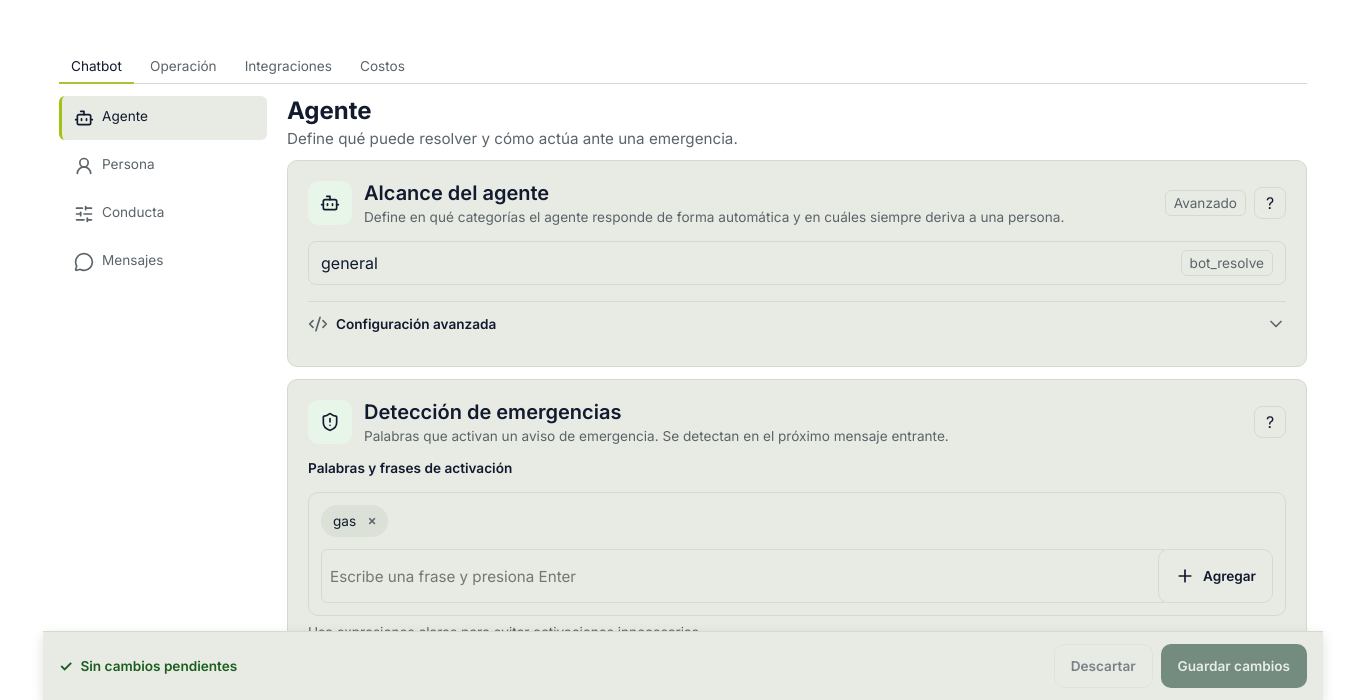
Test case: Settings › operation uses the shared save bar for hours and durations with an explicit empty state
Click the tab "Operación": [183, 67] box [138,50,229,84]
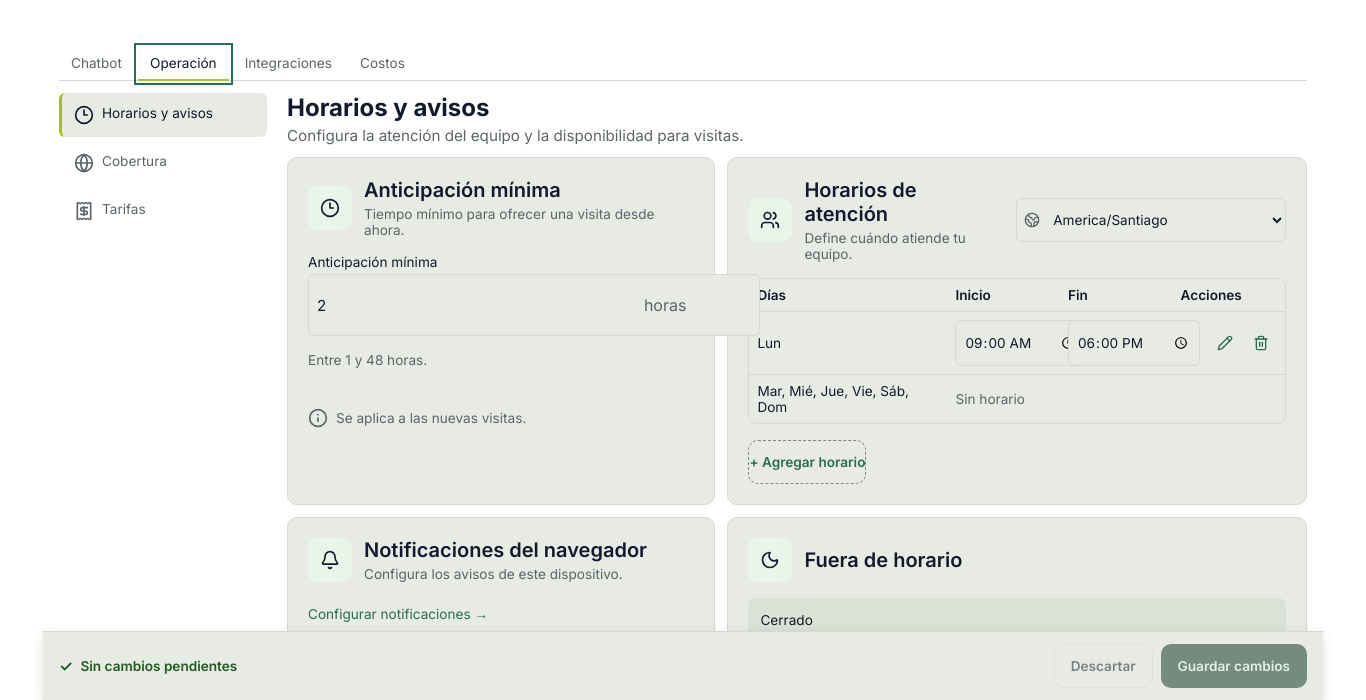
Click the tab "Horarios y avisos": [163, 115] box [59,93,267,137]
(page scrolled)
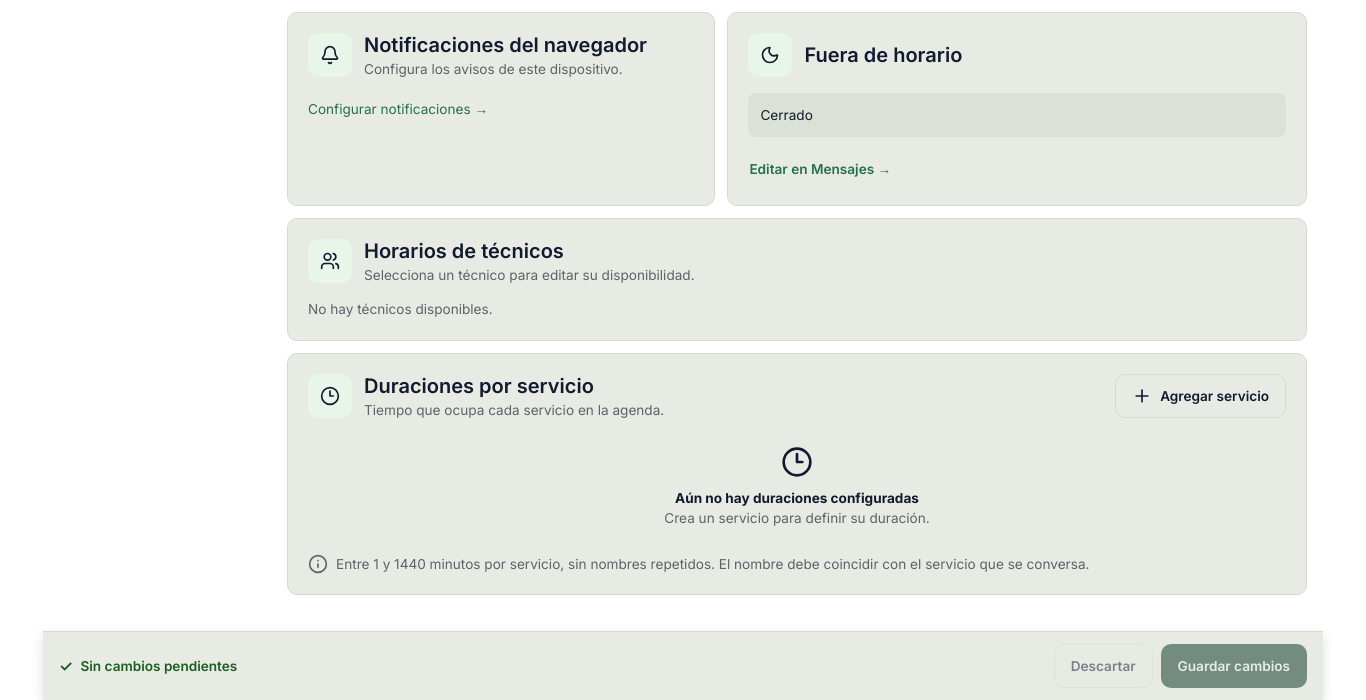
Expected: the text "Aún no hay duraciones configuradas" is shown, [675,490,919,506]
Expected: the button "Agregar servicio" is shown
Expected: the button "Editar en Mensajes →" is shown, [748,153,892,185]
Click the button "Agregar servicio": [1201, 396] box [1115,374,1286,418]
(page scrolled)
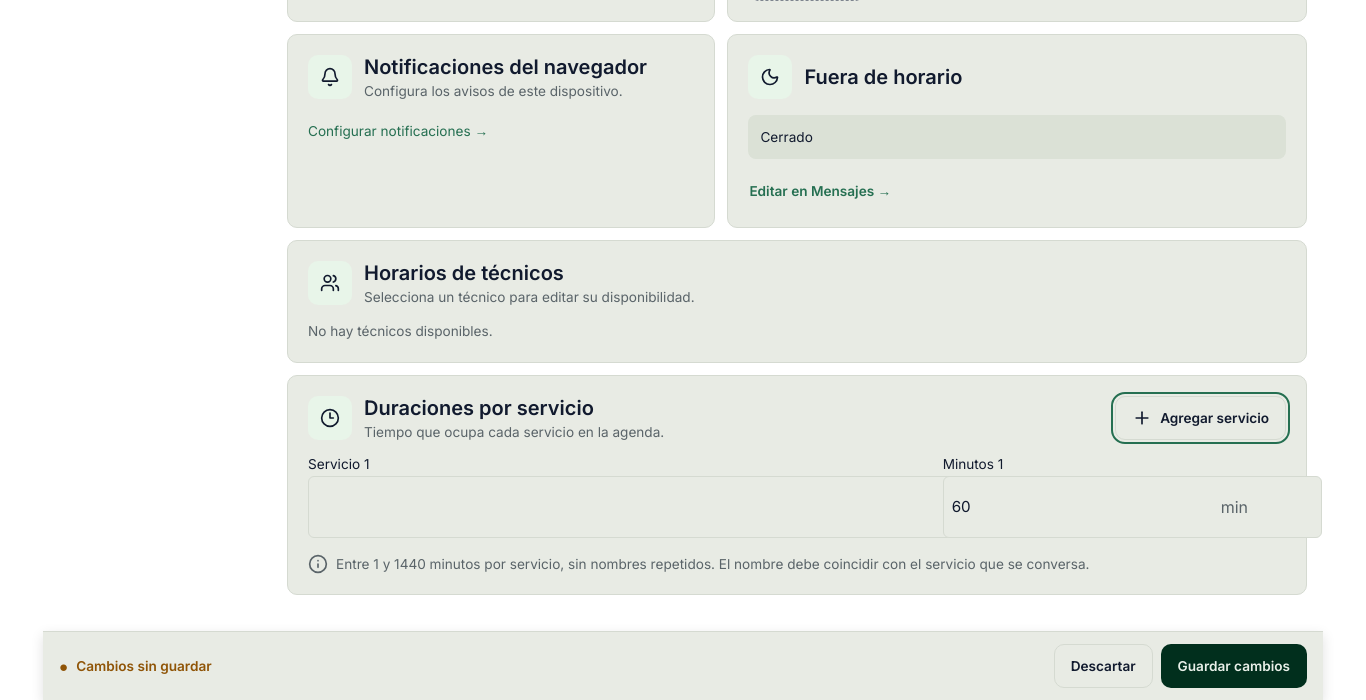
In the field labelled "Servicio 1": [630, 507] box [308,476,953,538], type " Calefont "
Replace the text in the field labelled "Minutos 1" with "90": [1132, 507] box [943,476,1322,538]
(page scrolled)
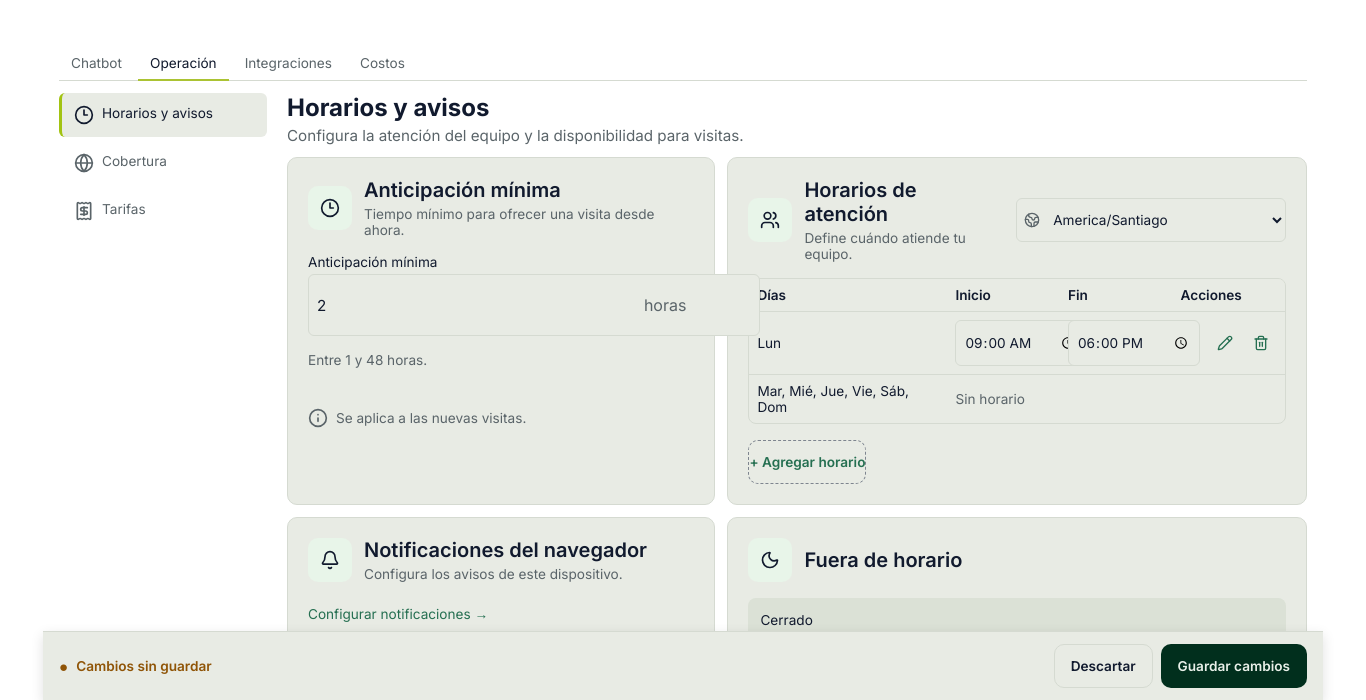
Replace the text in the number field labelled "Anticipación mínima" with "0": [534, 305] box [308,274,760,336]
Click the button "Guardar cambios": [1234, 666] box [1161,644,1307,688]
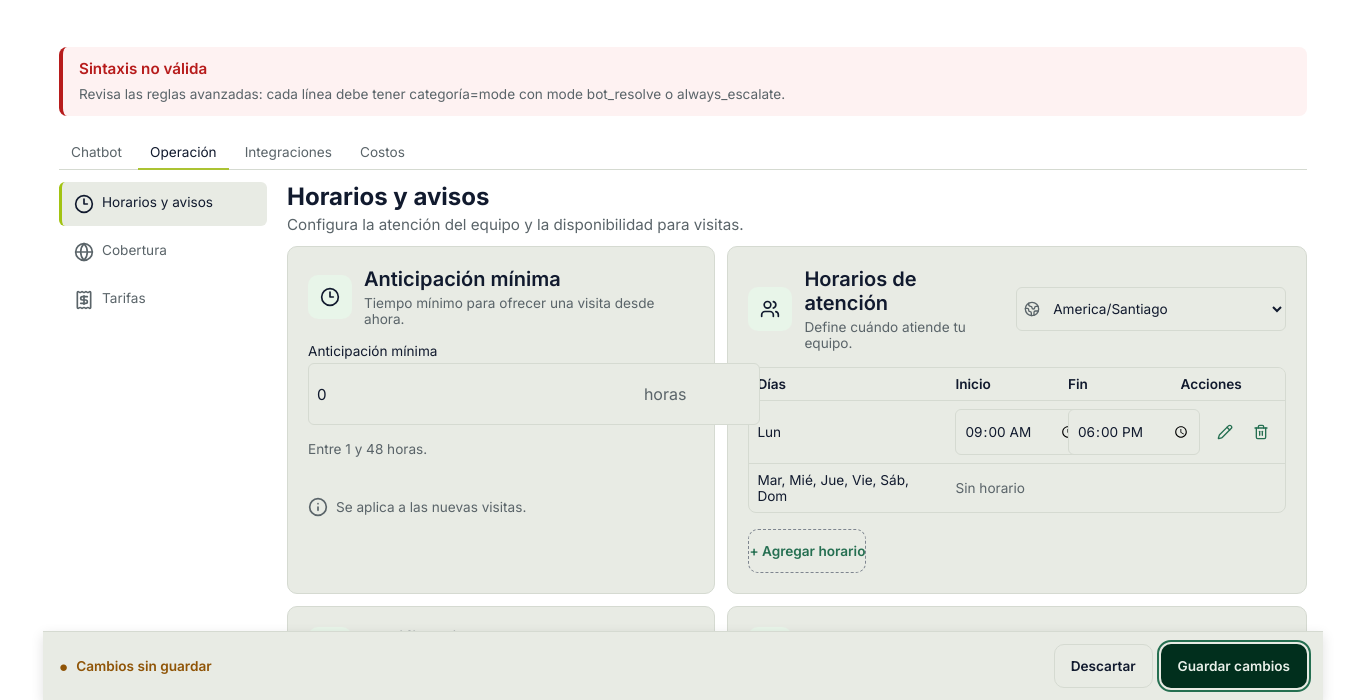
Click the button "Descartar": [1103, 666] box [1054,644,1153,688]
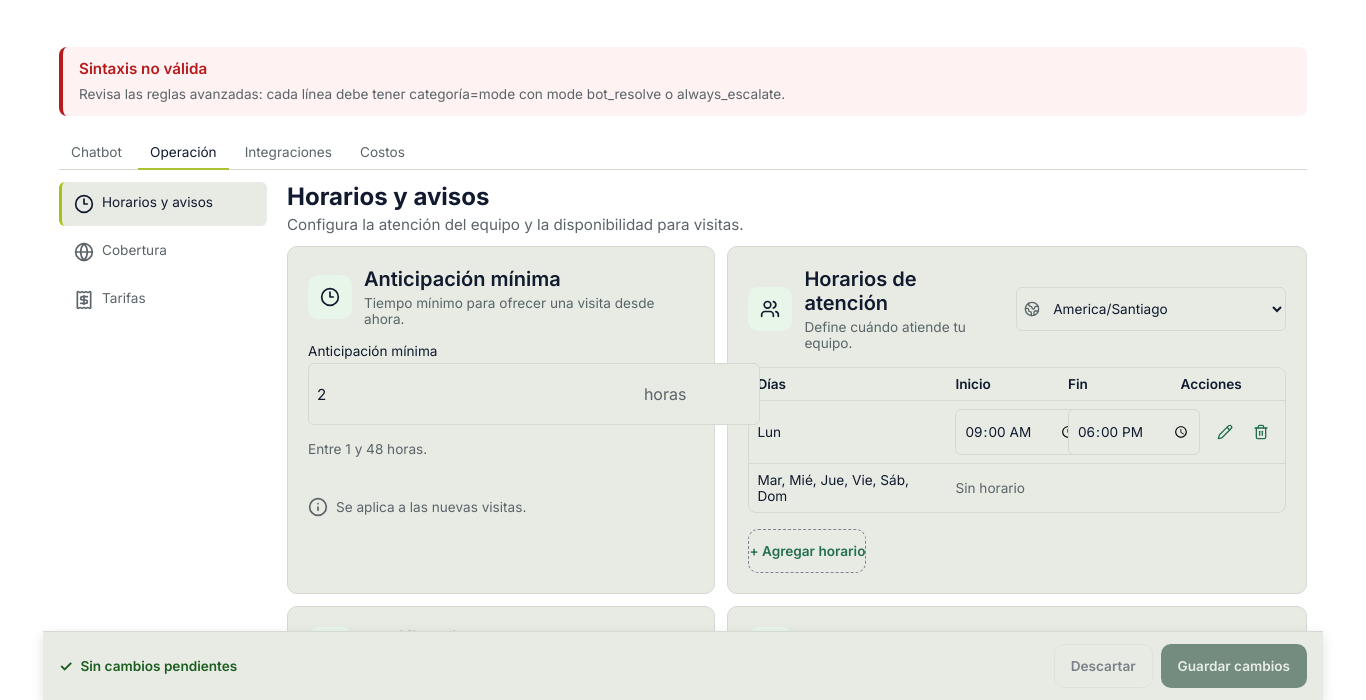
Expected: the label labelled "Servicio 1" is not shown
Expected: the number field labelled "Anticipación mínima" holds "2", [308,363,760,425]
Expected: the button "Guardar cambios" is disabled, [1161,644,1307,688]
